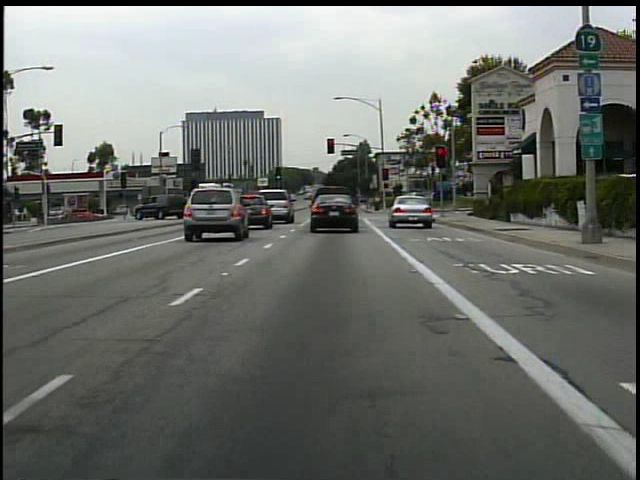person: (372, 193, 384, 214)
